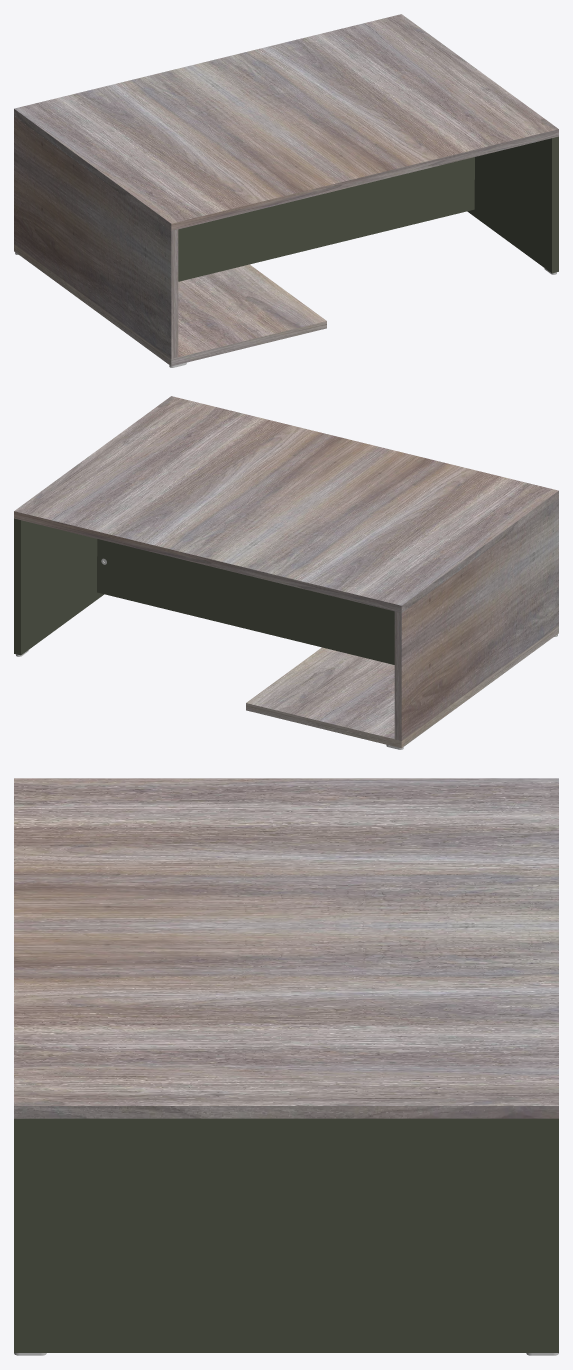
The picture shows the model from 3 angles, top to bottom: view 1: azimuth 30°, elevation 25°; view 2: azimuth 150°, elevation 25°; view 3: azimuth 270°, elevation 25°; orthographic projection. The views are drawn at different scales.
Parts seen in each view (by area): view 1: group_0.006, group_0.027, Cube; view 2: group_0.006, group_0.027, Cube; view 3: group_0.006, group_0.027.
Boxes of the visible parts, <box> form: group_0.006: <box>14,14,558,358</box>; group_0.027: <box>178,136,558,281</box>; Cube: <box>14,244,326,366</box>; group_0.006: <box>14,396,558,740</box>; group_0.027: <box>14,518,394,664</box>; Cube: <box>246,626,558,748</box>; group_0.006: <box>14,778,558,1118</box>; group_0.027: <box>14,1118,558,1352</box>.
Size of what is drawn, in the model's own units: 0.996 by 0.3551 by 0.7.
11 materials, 2 textured.
